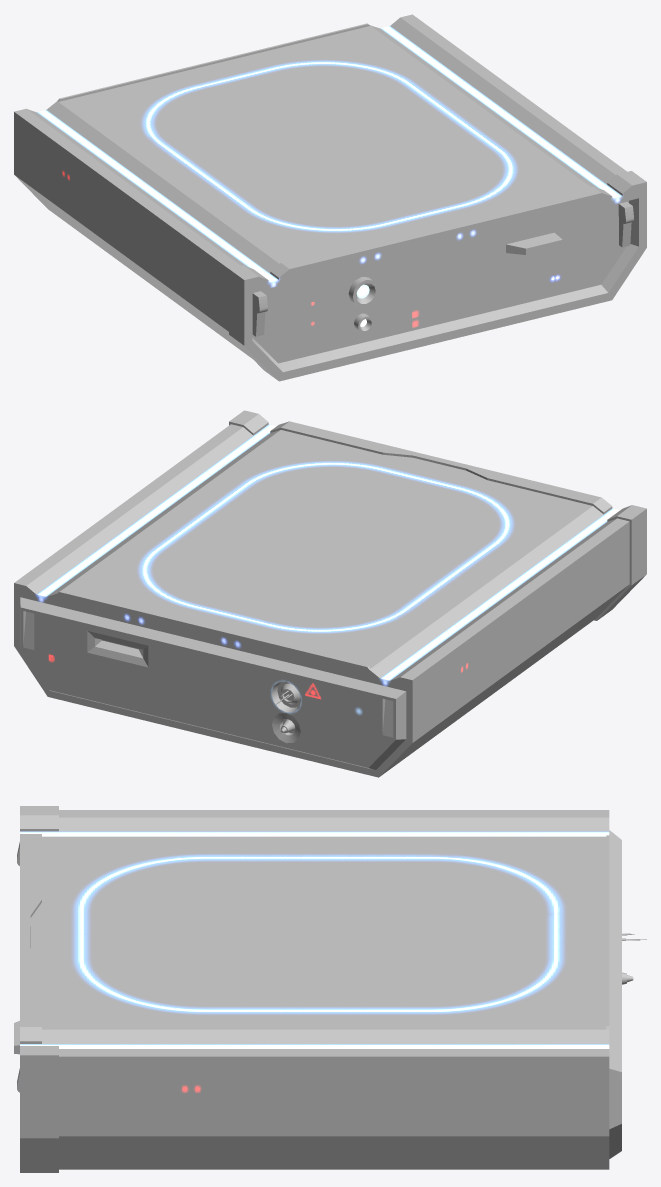
File: Straight_Caps.fbx
3 renders of one model, top to bottom at view 1: azimuth 30°, elevation 25°; view 2: azimuth 150°, elevation 25°; view 3: azimuth 270°, elevation 25°, orthographic. The views are drawn at different scales.
Visible parts, largest first — view 1: Straight_Caps; view 2: Straight_Caps; view 3: Straight_Caps.
Boxes of the visible parts, x1=… form: Straight_Caps: x1=14, y1=14, x2=646, y2=381; Straight_Caps: x1=14, y1=410, x2=646, y2=777; Straight_Caps: x1=14, y1=806, x2=646, y2=1172.
Bounding box in the file's own units: 2.5 × 0.6517 × 2.69.
